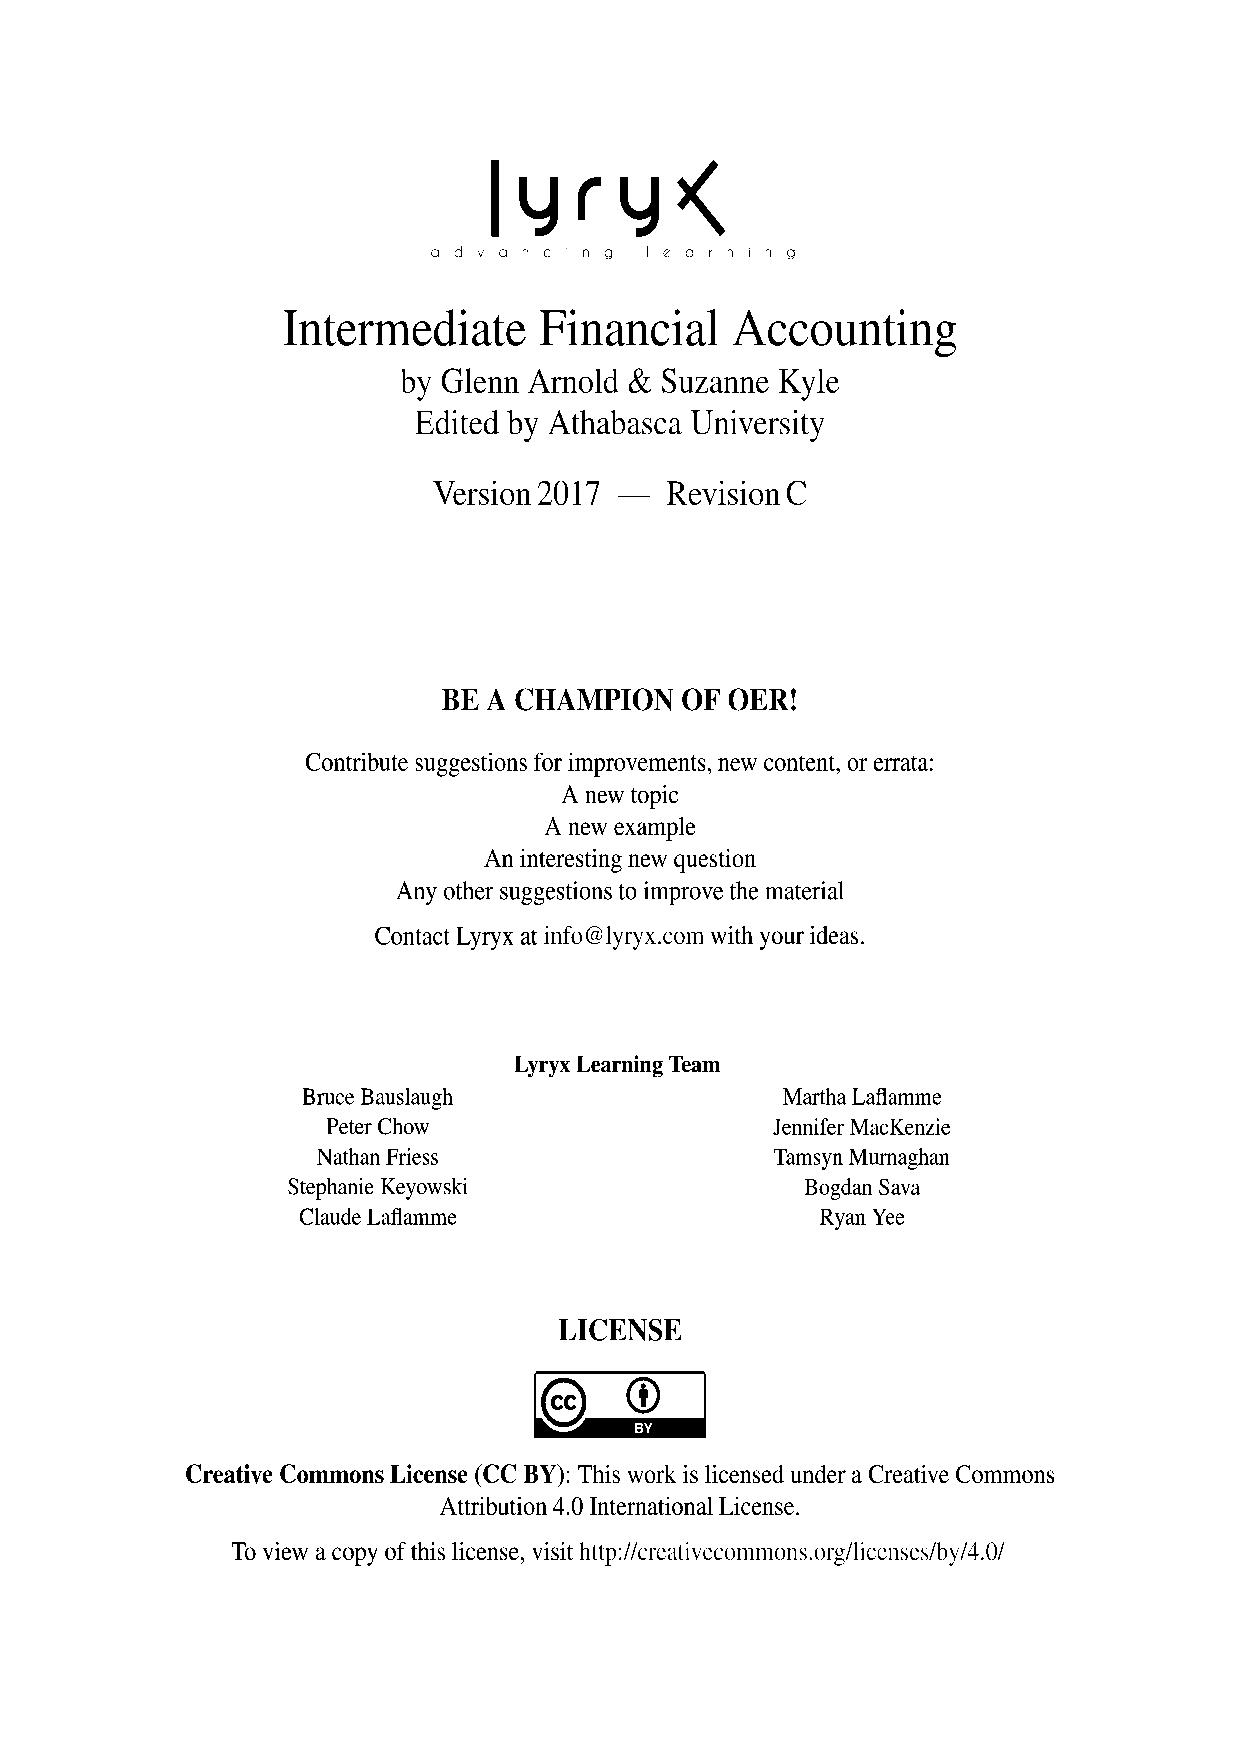author: (395, 362, 841, 404)
title: (278, 305, 958, 358)
